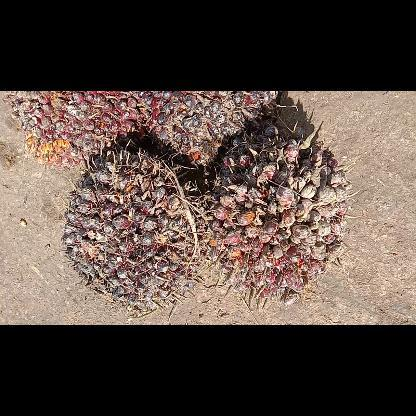Kurang masak: (211, 121, 357, 309), (61, 143, 208, 314), (0, 93, 181, 170), (150, 91, 282, 163)
